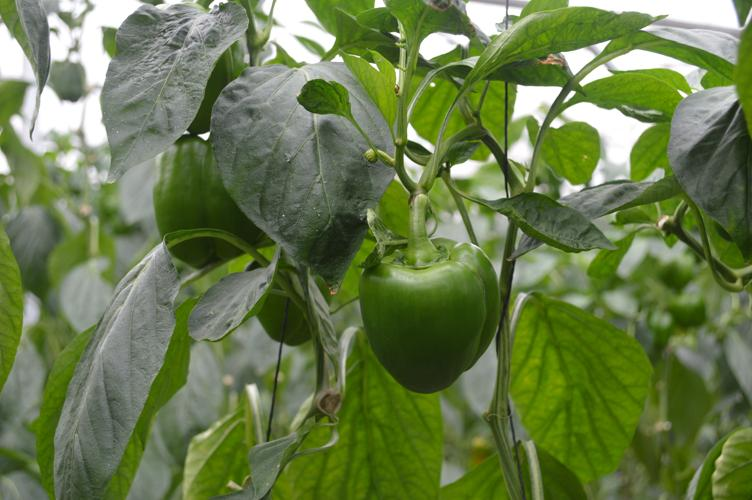BellPepper: (362, 243, 498, 387), (153, 138, 257, 258)
